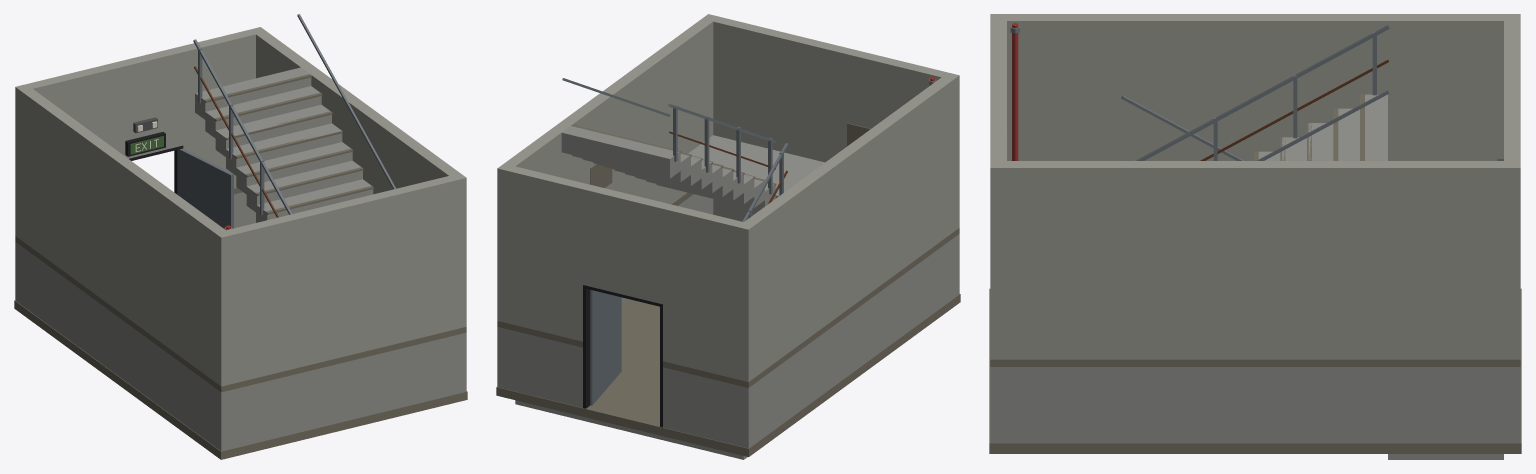
File: tw_stair_open.glb
3 renders of one model, left to right at view 1: azimuth 30°, elevation 25°; view 2: azimuth 150°, elevation 25°; view 3: azimuth 270°, elevation 25°, orthographic. The views are drawn at different scales.
Parts seen in each view (by area): view 1: tw_stair_open; view 2: tw_stair_open; view 3: tw_stair_open.
Boxes of the visible parts, <box> form: tw_stair_open: <box>14,14,467,459</box>; tw_stair_open: <box>496,14,960,459</box>; tw_stair_open: <box>989,14,1521,459</box>.
Size of what is drawn, in the model's own units: 4.42 by 4.9 by 6.42.
2 materials, 2 textured.
